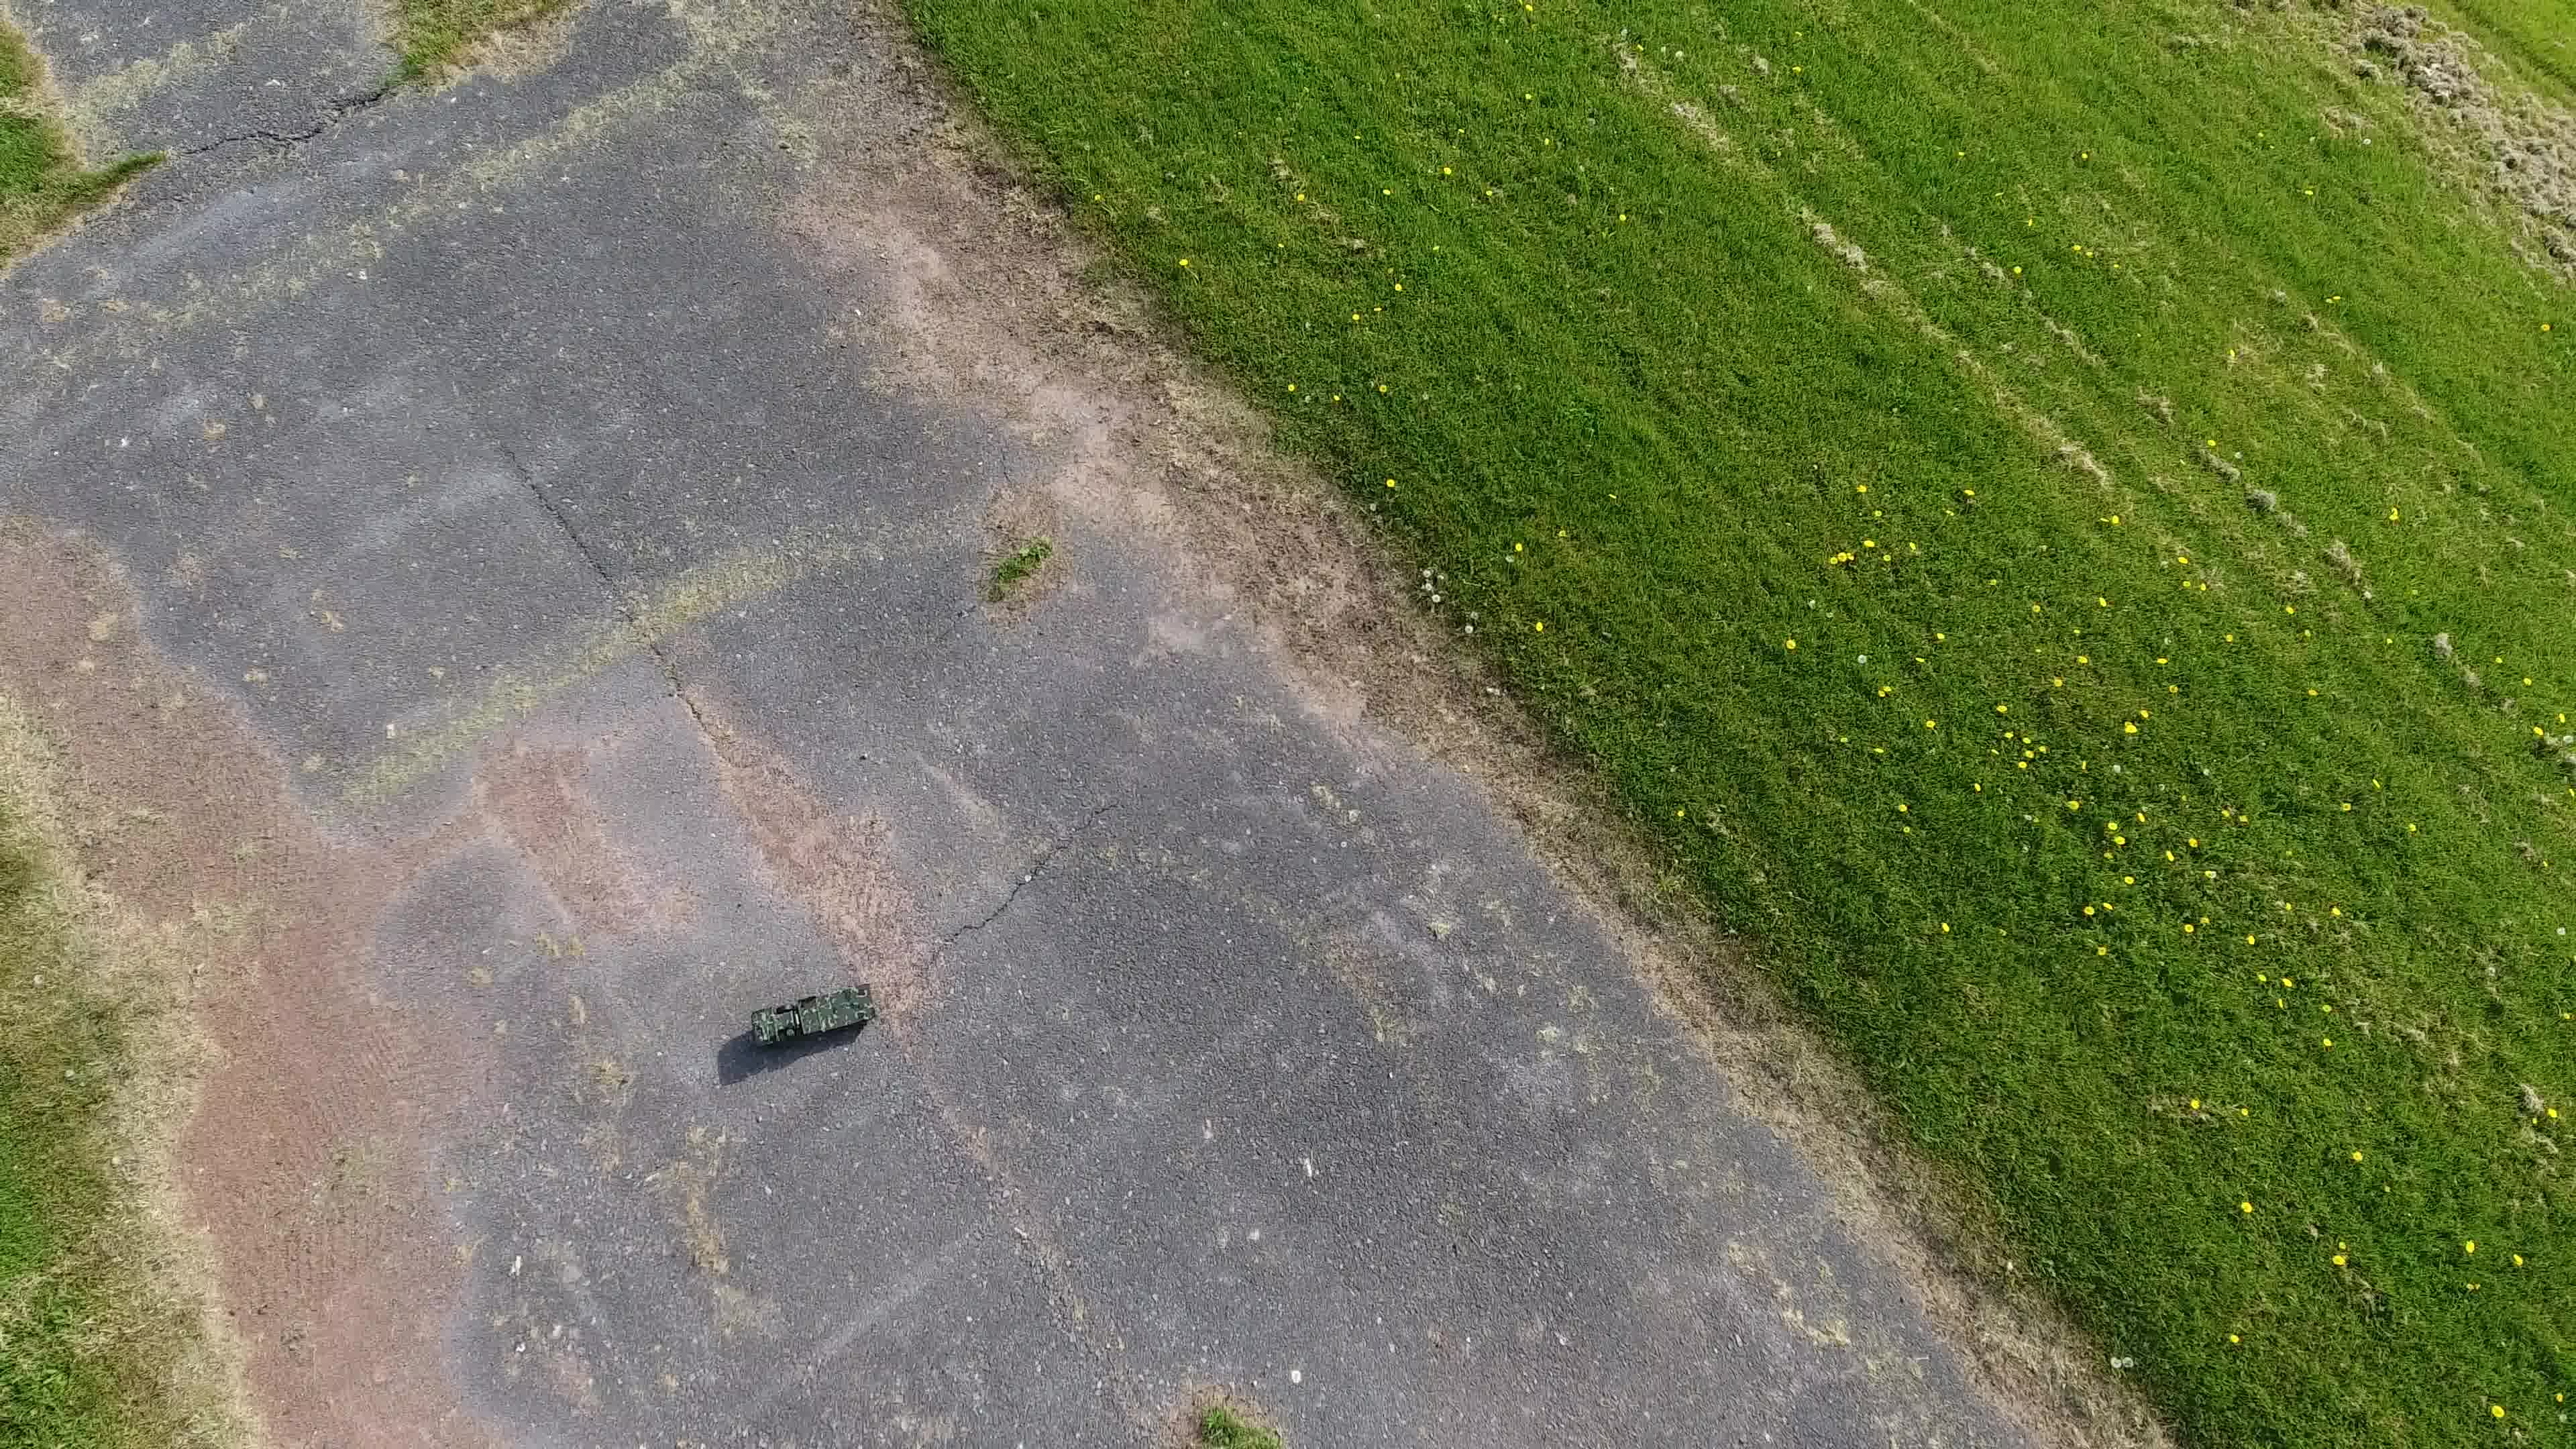transporter9_camo: (747, 978, 879, 1054)
